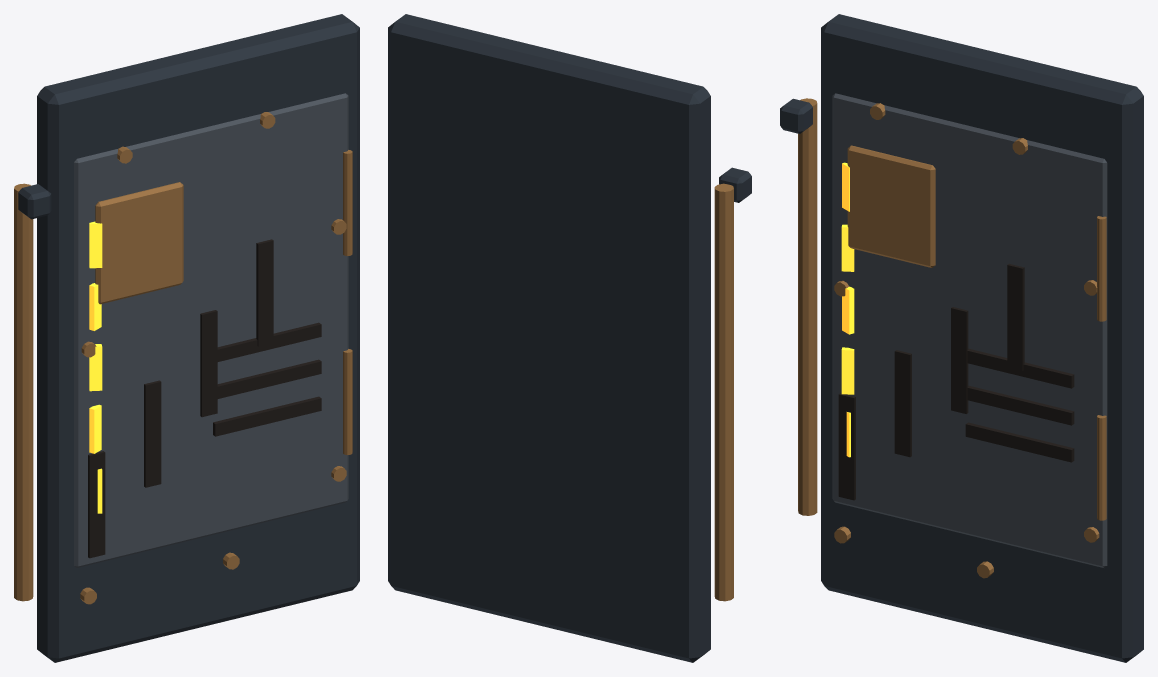
Rendered from runtime.glb.
The picture shows the model from 3 angles, left to right: view 1: azimuth 30°, elevation 25°; view 2: azimuth 150°, elevation 25°; view 3: azimuth 330°, elevation 25°; orthographic projection.
Parts seen in each view (by area): view 1: kinetic-tide-maintenance-panel-v05_plate_nocol, kinetic-tide-maintenance-panel-v05_steel_nocol, kinetic-tide-maintenance-panel-v05_bronze_nocol, kinetic-tide-maintenance-panel-v05_weardark_nocol, kinetic-tide-maintenance-panel-v05_warningorange_nocol; view 2: kinetic-tide-maintenance-panel-v05_steel_nocol, kinetic-tide-maintenance-panel-v05_bronze_nocol; view 3: kinetic-tide-maintenance-panel-v05_plate_nocol, kinetic-tide-maintenance-panel-v05_steel_nocol, kinetic-tide-maintenance-panel-v05_bronze_nocol, kinetic-tide-maintenance-panel-v05_weardark_nocol, kinetic-tide-maintenance-panel-v05_warningorange_nocol.
Boxes of the visible parts, <box> form: kinetic-tide-maintenance-panel-v05_plate_nocol: <box>74,93,348,567</box>; kinetic-tide-maintenance-panel-v05_steel_nocol: <box>18,14,359,662</box>; kinetic-tide-maintenance-panel-v05_bronze_nocol: <box>14,112,352,604</box>; kinetic-tide-maintenance-panel-v05_weardark_nocol: <box>88,239,321,558</box>; kinetic-tide-maintenance-panel-v05_warningorange_nocol: <box>89,221,102,513</box>; kinetic-tide-maintenance-panel-v05_steel_nocol: <box>388,14,751,662</box>; kinetic-tide-maintenance-panel-v05_bronze_nocol: <box>714,183,733,601</box>; kinetic-tide-maintenance-panel-v05_plate_nocol: <box>832,93,1107,567</box>; kinetic-tide-maintenance-panel-v05_steel_nocol: <box>780,14,1143,662</box>; kinetic-tide-maintenance-panel-v05_bronze_nocol: <box>798,98,1106,578</box>; kinetic-tide-maintenance-panel-v05_weardark_nocol: <box>838,263,1074,500</box>; kinetic-tide-maintenance-panel-v05_warningorange_nocol: <box>841,162,854,457</box>.
Bounding box in the file's own units: 2.83 × 4.49 × 0.3987.
